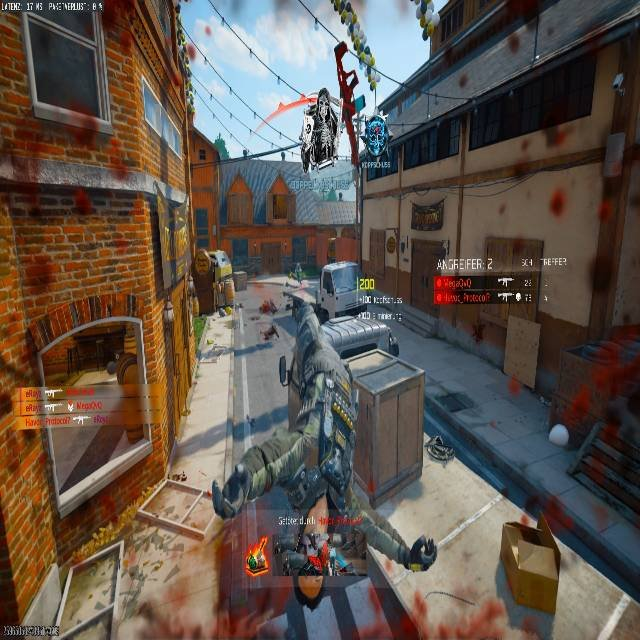head: (406, 535, 437, 572)
